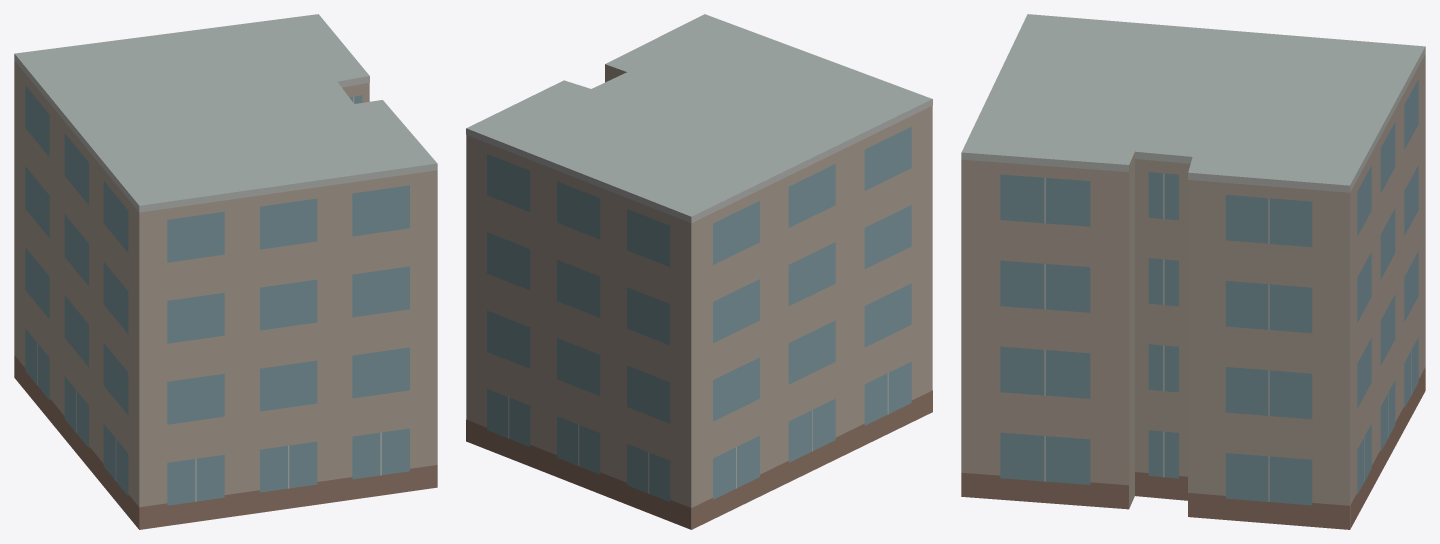
The model's file is survey-upis-33027514.glb.
3 renders of one model, left to right at view 1: azimuth 30°, elevation 25°; view 2: azimuth 150°, elevation 25°; view 3: azimuth 270°, elevation 25°, orthographic. The views are drawn at different scales.
Visible parts, largest first — view 1: survey-upis-33027514.tmp; view 2: survey-upis-33027514.tmp; view 3: survey-upis-33027514.tmp.
Boxes of the visible parts, x1,y1,x2,y2 form: survey-upis-33027514.tmp: (14,14,437,529); survey-upis-33027514.tmp: (466,14,932,529); survey-upis-33027514.tmp: (961,14,1425,529).
Bounding box in the file's own units: 12.52 × 11.7 × 14.31.
